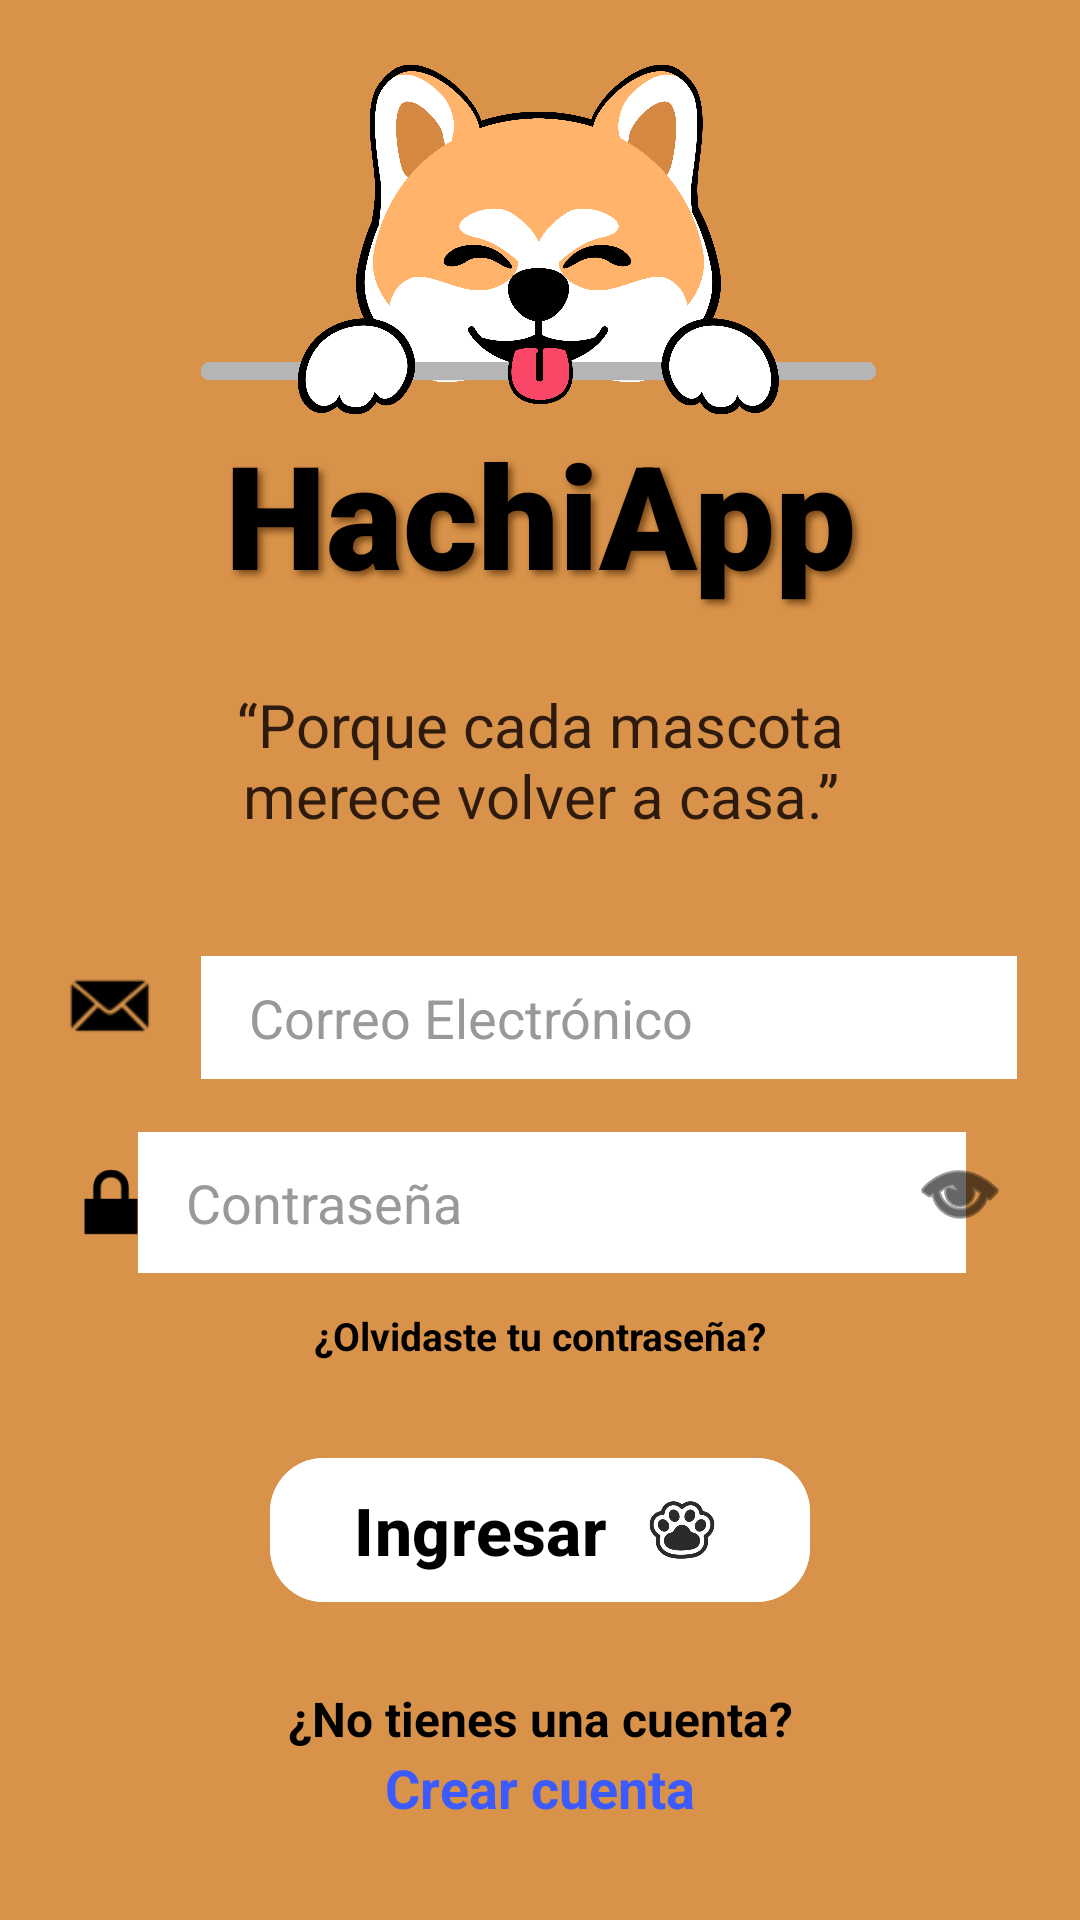

Screen size 1080x1920. Icon name, then its box in pixels as bbox(x1, y1, x2, y2):
lock: bbox(84, 1151, 162, 1253)
sym action email: bbox(70, 979, 149, 1032)
